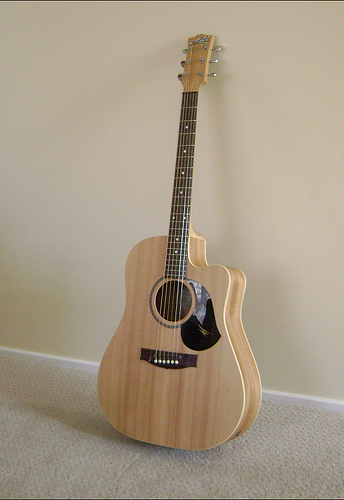guitar: (94, 30, 268, 453)
